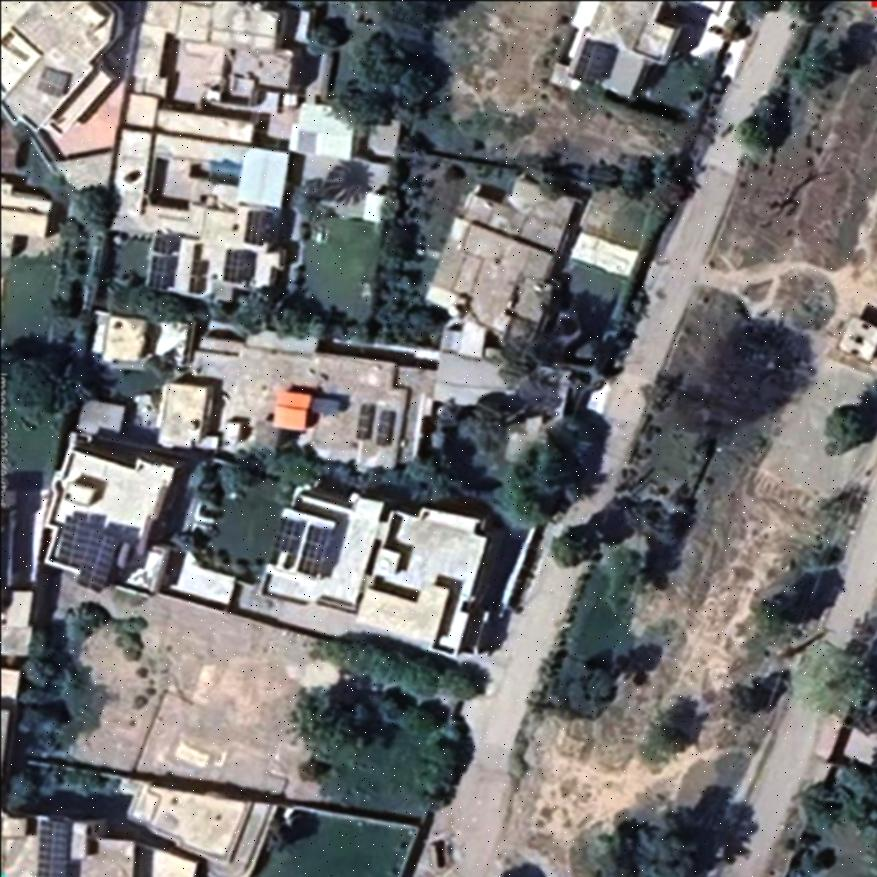Solarpanel: (75, 531, 118, 594), (36, 818, 68, 876), (269, 516, 304, 568), (59, 513, 93, 566), (297, 528, 334, 575), (146, 256, 171, 288), (225, 250, 244, 284), (246, 212, 263, 242)
